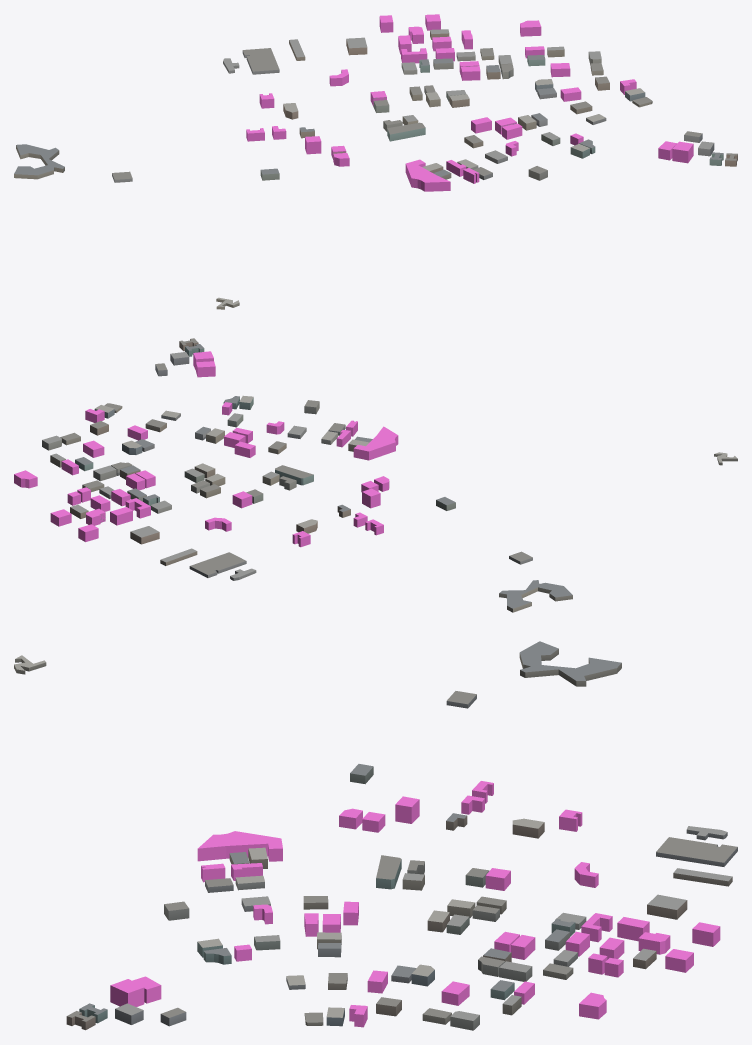
File: bld_18_6.fbx
3 renders of one model, top to bottom at view 1: azimuth 30°, elevation 25°; view 2: azimuth 150°, elevation 25°; view 3: azimuth 270°, elevation 25°, orthographic. The views are drawn at different scales.
Visible parts, largest first — view 1: bld_18_6_LOD0, bld_18_6_COL; view 2: bld_18_6_LOD0, bld_18_6_COL; view 3: bld_18_6_LOD0, bld_18_6_COL.
Boxes of the visible parts, x1=… form: bld_18_6_LOD0: x1=14, y1=29, x2=737, y2=309; bld_18_6_COL: x1=246, y1=14, x2=693, y2=191; bld_18_6_LOD0: x1=42, y1=338, x2=737, y2=612; bld_18_6_COL: x1=14, y1=351, x2=398, y2=547; bld_18_6_LOD0: x1=14, y1=641, x2=737, y2=1030; bld_18_6_COL: x1=110, y1=781, x2=720, y2=1027.
Size of what is drawn, in the model's own units: 1965 by 40.49 by 1566.
